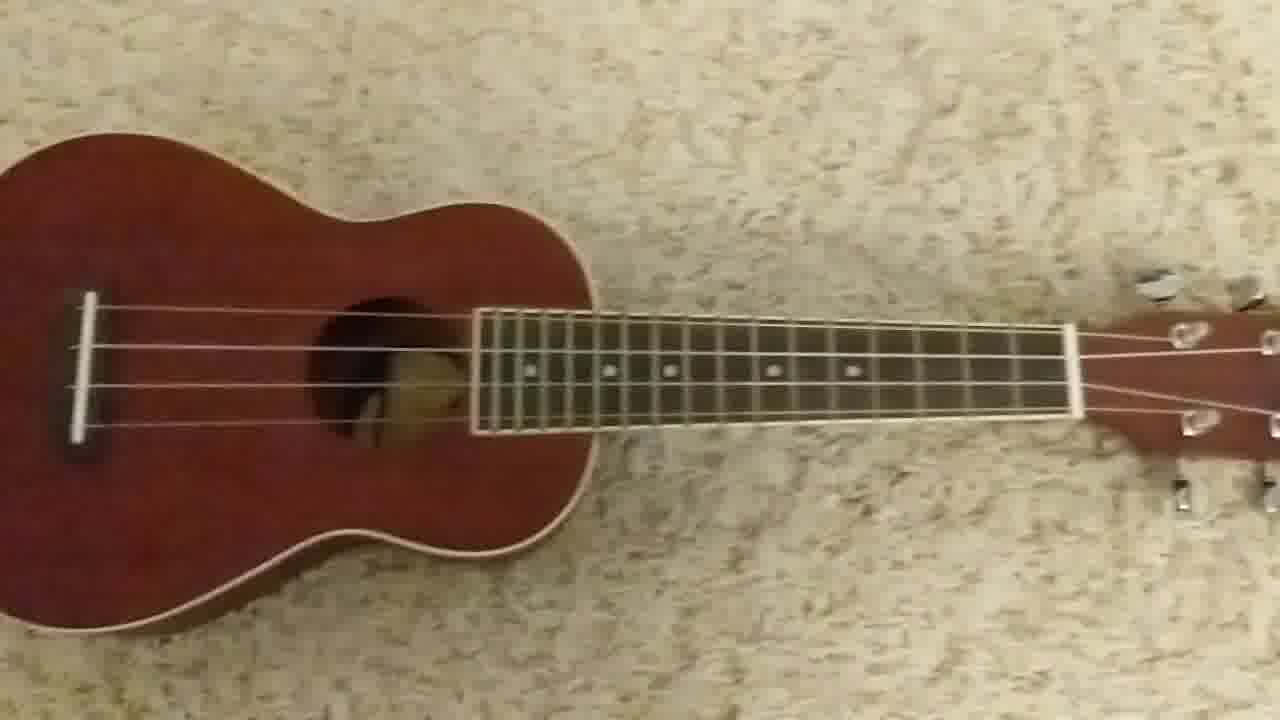Body: (1, 125, 605, 635)
Bridge: (51, 286, 116, 456)
Headstock: (1080, 260, 1280, 521)
